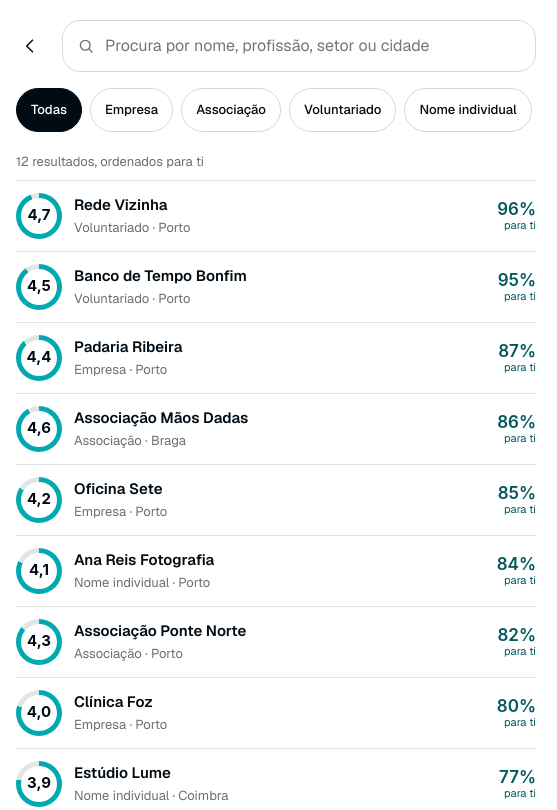
Test case: Pesquisa (mobile) › o endereço acompanha os resultados (muda quando a pesquisa é aplicada); limpar esvazia o campo e devolve o foco
In the dropdown named "Pesquisar organização": [315, 46] box [103, 33, 527, 59], type "maia"
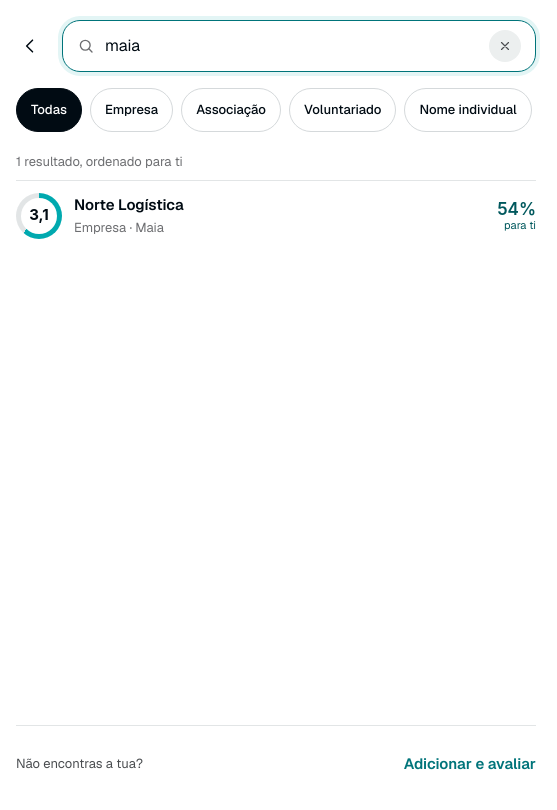
Expected: the text "1 resultado, ordenado para ti" is shown, [16, 153, 183, 170]
Click the button named "Limpar pesquisa": [505, 46] box [483, 24, 527, 68]
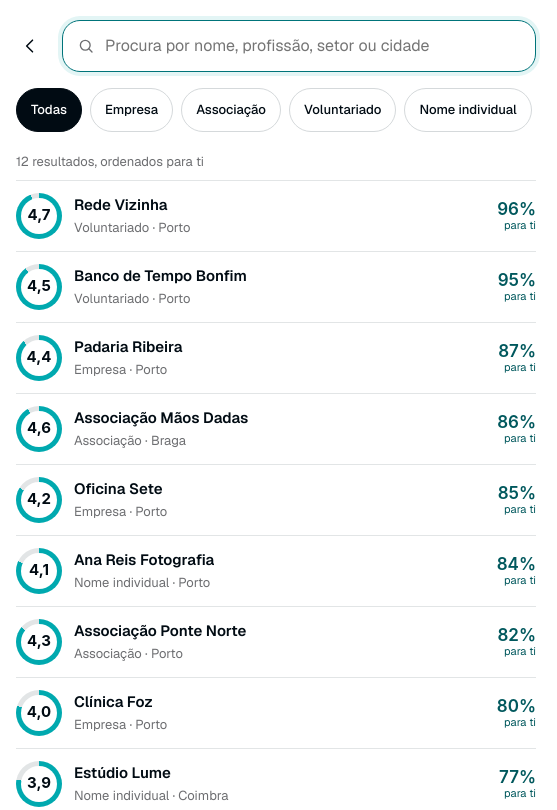
Expected: the dropdown with placeholder "Procura por nome, profissão, setor ou cidade" is empty, [103, 33, 527, 59]
